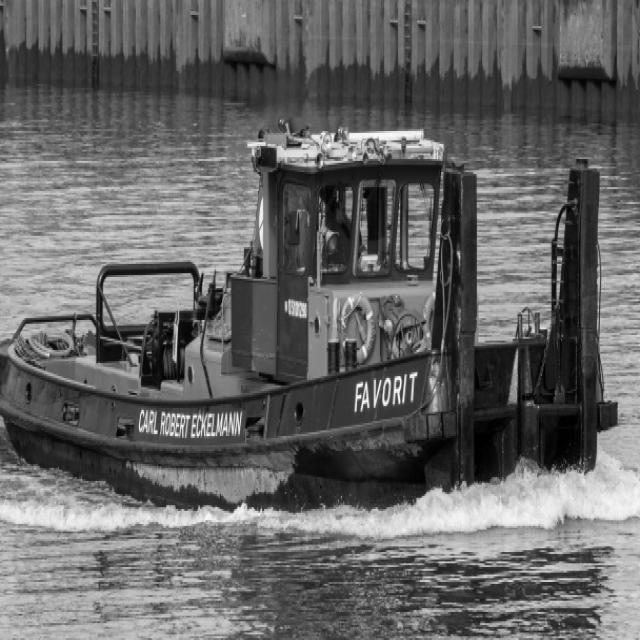tugboat: (1, 115, 626, 528)
